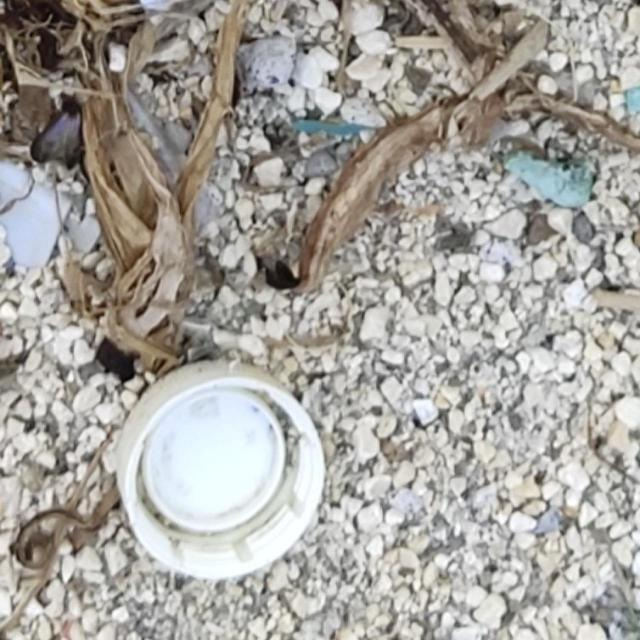plastic_waste: (112, 361, 332, 583)
